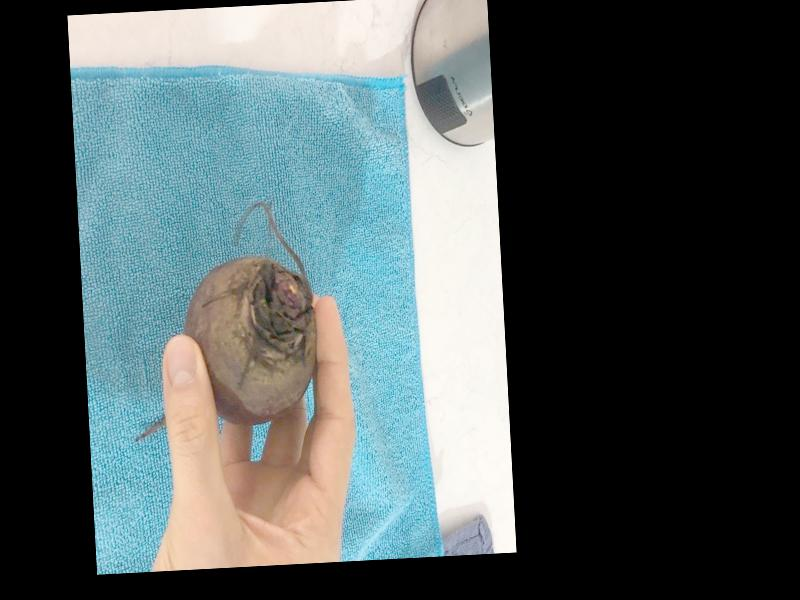Beet: (123, 201, 320, 440)
